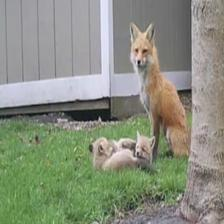fox: (125, 20, 198, 160), (90, 126, 161, 181)
